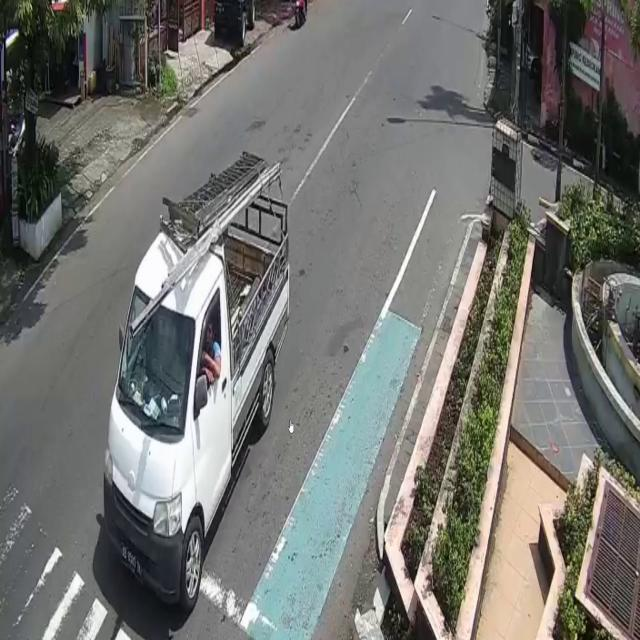car: (105, 197, 291, 612)
